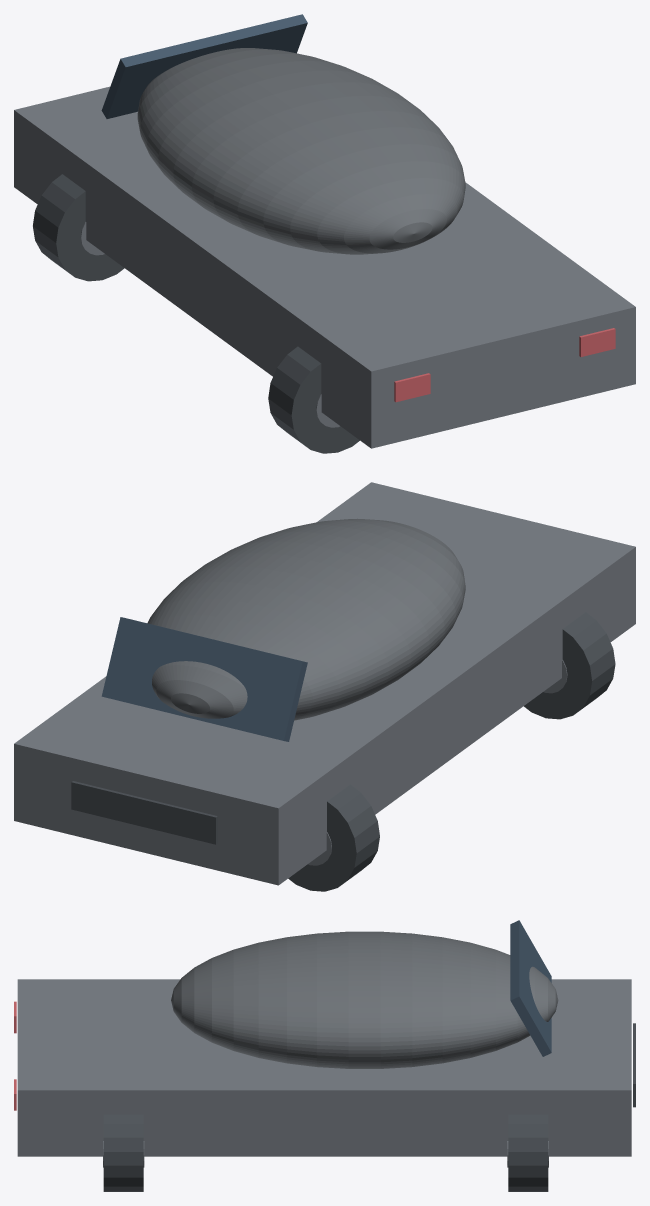
File: burned_sedan.glb
3 views of the same model, one above another, from view 1: azimuth 30°, elevation 25°; view 2: azimuth 150°, elevation 25°; view 3: azimuth 270°, elevation 25° (orthographic). The views are drawn at different scales.
Visible parts, largest first — view 1: car_chassis_1, angled_car_roof_2, cracked_windshield_11, tire_5, tire_3, tail_light_13, tail_light_14; view 2: car_chassis_1, angled_car_roof_2, cracked_windshield_11, tire_5, tire_3, front_grille_12; view 3: car_chassis_1, angled_car_roof_2, tire_7, tire_9, cracked_windshield_11.
Boxes of the visible parts, bbox=[...] form: car_chassis_1: bbox=[14, 86, 635, 448]; angled_car_roof_2: bbox=[137, 48, 465, 254]; cracked_windshield_11: bbox=[101, 14, 307, 118]; tire_5: bbox=[268, 346, 359, 453]; tire_3: bbox=[33, 174, 124, 281]; tail_light_13: bbox=[394, 373, 430, 402]; tail_light_14: bbox=[579, 328, 615, 356]; car_chassis_1: bbox=[14, 482, 635, 885]; angled_car_roof_2: bbox=[147, 518, 465, 720]; cracked_windshield_11: bbox=[101, 617, 307, 741]; tire_5: bbox=[524, 612, 615, 719]; tire_3: bbox=[288, 784, 379, 891]; front_grille_12: bbox=[71, 781, 217, 844]; car_chassis_1: bbox=[17, 979, 631, 1156]; angled_car_roof_2: bbox=[171, 931, 558, 1068]; tire_7: bbox=[508, 1114, 548, 1191]; tire_9: bbox=[103, 1114, 143, 1191]; cracked_windshield_11: bbox=[510, 920, 551, 1056].
Bounding box in the file's own units: 2.24 × 1.43 × 4.34.
